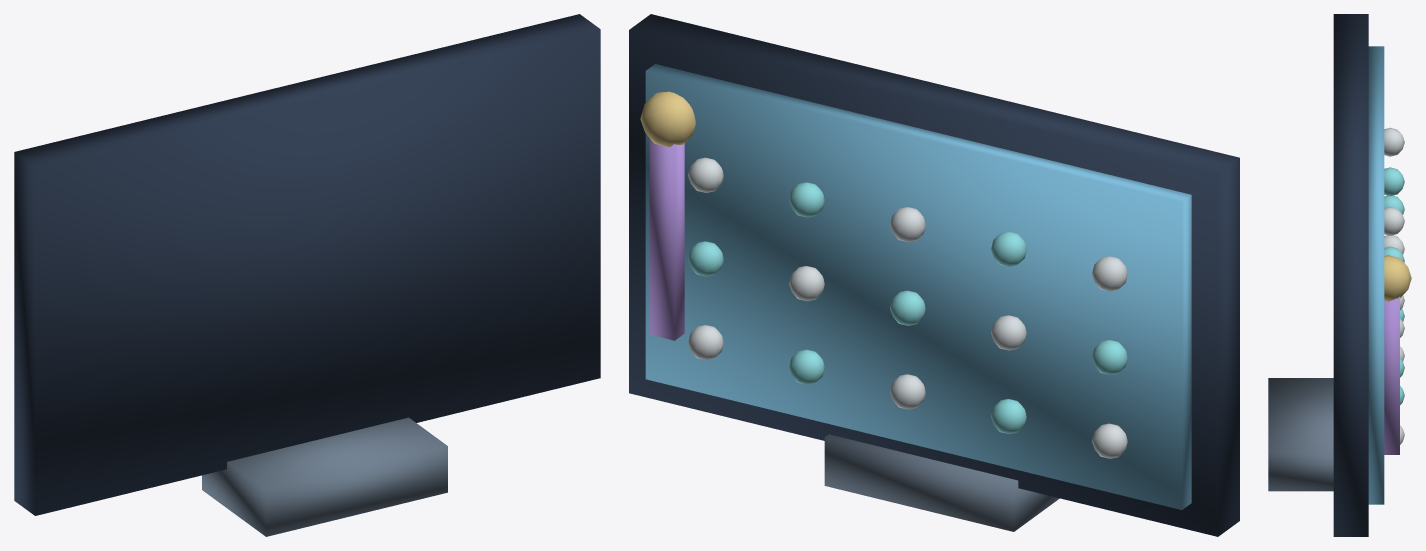
File: status-control-board-v1.gltf
3 renders of one model, left to right at view 1: azimuth 30°, elevation 25°; view 2: azimuth 150°, elevation 25°; view 3: azimuth 270°, elevation 25°, orthographic. The views are drawn at different scales.
Parts seen in each view (by area): view 1: status-control-board-v1-00, status-control-board-v1-02; view 2: status-control-board-v1-01, status-control-board-v1-00, status-control-board-v1-02, status-control-board-v1-18, status-control-board-v1-19, status-control-board-v1-17, status-control-board-v1-12, status-control-board-v1-06, status-control-board-v1-10, status-control-board-v1-14, status-control-board-v1-03, status-control-board-v1-11 (+8 smaller); view 3: status-control-board-v1-00, status-control-board-v1-01, status-control-board-v1-02, status-control-board-v1-18, status-control-board-v1-19, status-control-board-v1-14, status-control-board-v1-13, status-control-board-v1-15, status-control-board-v1-09, status-control-board-v1-08.
Part boxes in pixels (x1,y1,x2,y2): status-control-board-v1-00: [14, 14, 600, 515]; status-control-board-v1-02: [202, 417, 447, 536]; status-control-board-v1-01: [645, 64, 1191, 509]; status-control-board-v1-00: [629, 14, 1239, 536]; status-control-board-v1-02: [824, 434, 1059, 531]; status-control-board-v1-18: [649, 138, 684, 340]; status-control-board-v1-19: [640, 91, 695, 147]; status-control-board-v1-17: [688, 157, 723, 192]; status-control-board-v1-12: [688, 241, 723, 276]; status-control-board-v1-06: [789, 349, 824, 384]; status-control-board-v1-10: [890, 290, 925, 325]; status-control-board-v1-14: [991, 231, 1026, 266]; status-control-board-v1-03: [1092, 423, 1127, 458]; status-control-board-v1-11: [789, 266, 824, 301]; status-control-board-v1-00: [1333, 14, 1368, 536]; status-control-board-v1-01: [1368, 46, 1384, 504]; status-control-board-v1-02: [1268, 378, 1333, 491]; status-control-board-v1-18: [1384, 297, 1399, 454]; status-control-board-v1-19: [1384, 255, 1411, 301]; status-control-board-v1-14: [1384, 167, 1404, 196]; status-control-board-v1-13: [1384, 127, 1404, 156]; status-control-board-v1-15: [1384, 207, 1404, 235]; status-control-board-v1-09: [1384, 235, 1404, 254]; status-control-board-v1-08: [1384, 195, 1404, 214].
Size of the model in its own units: 2.8 by 1.83 by 0.735.
